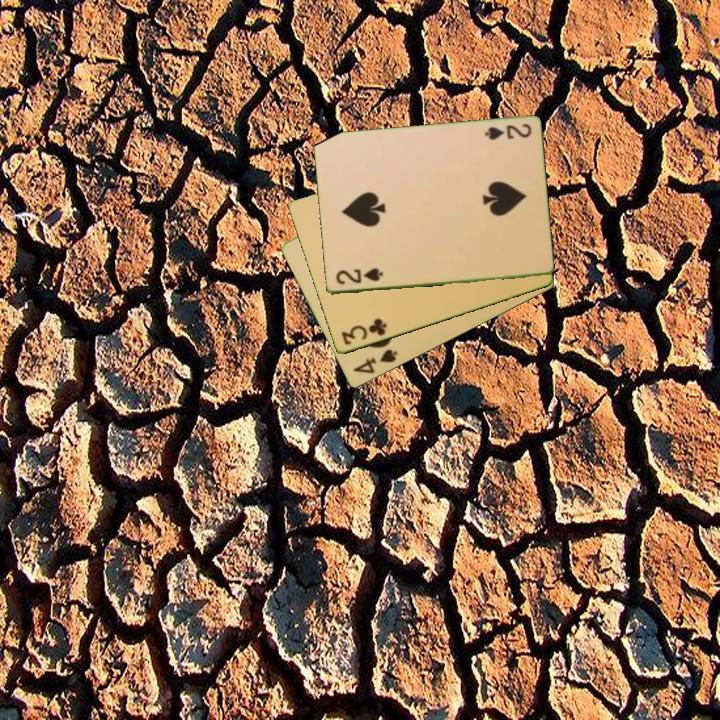2s: (332, 265, 385, 288), (481, 121, 534, 143)
3c: (338, 315, 389, 348)
4s: (349, 346, 400, 377)
